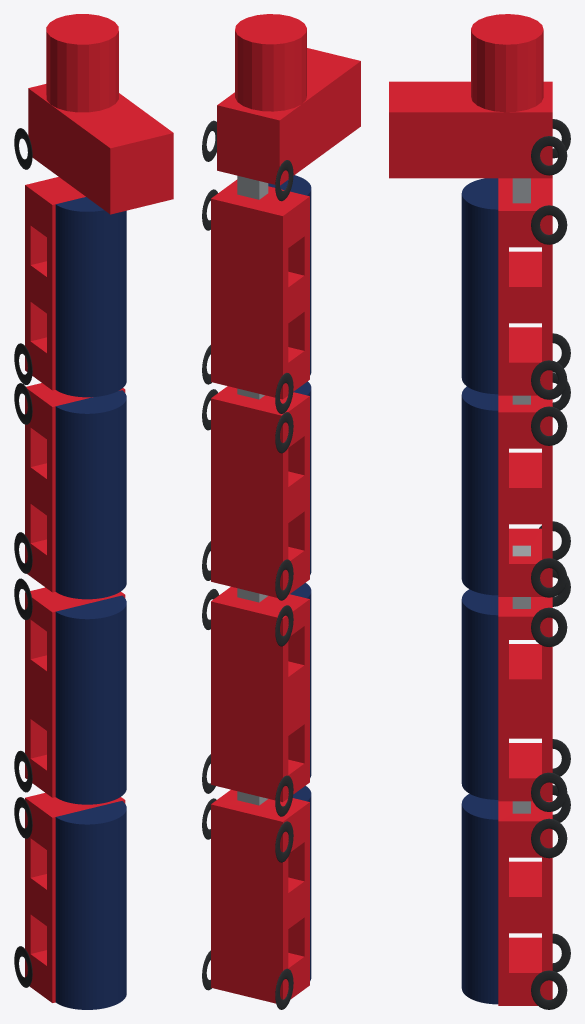
Rendered from tinker.obj.
The picture shows the model from 3 angles, left to right: view 1: azimuth 30°, elevation 25°; view 2: azimuth 150°, elevation 25°; view 3: azimuth 270°, elevation 25°; orthographic projection.
Parts seen in each view (by area): view 1: group_0_1650274, group_0_15277357, group_0_2829873; view 2: group_0_15277357, group_0_2829873, group_0_1650274, group_0_10988977; view 3: group_0_15277357, group_0_1650274, group_0_2829873, group_0_10988977.
Boxes of the visible parts, bbox=[...] form: group_0_1650274: bbox=[55, 197, 126, 1009]; group_0_15277357: bbox=[25, 14, 173, 1002]; group_0_2829873: bbox=[14, 128, 32, 987]; group_0_15277357: bbox=[211, 14, 360, 1003]; group_0_2829873: bbox=[202, 120, 293, 1009]; group_0_1650274: bbox=[268, 175, 311, 980]; group_0_10988977: bbox=[237, 175, 268, 805]; group_0_15277357: bbox=[389, 14, 552, 1005]; group_0_1650274: bbox=[461, 178, 498, 1004]; group_0_2829873: bbox=[531, 119, 570, 1009]; group_0_10988977: bbox=[512, 178, 530, 813].
Size of the model in its own units: 24.5 by 292 by 50.
